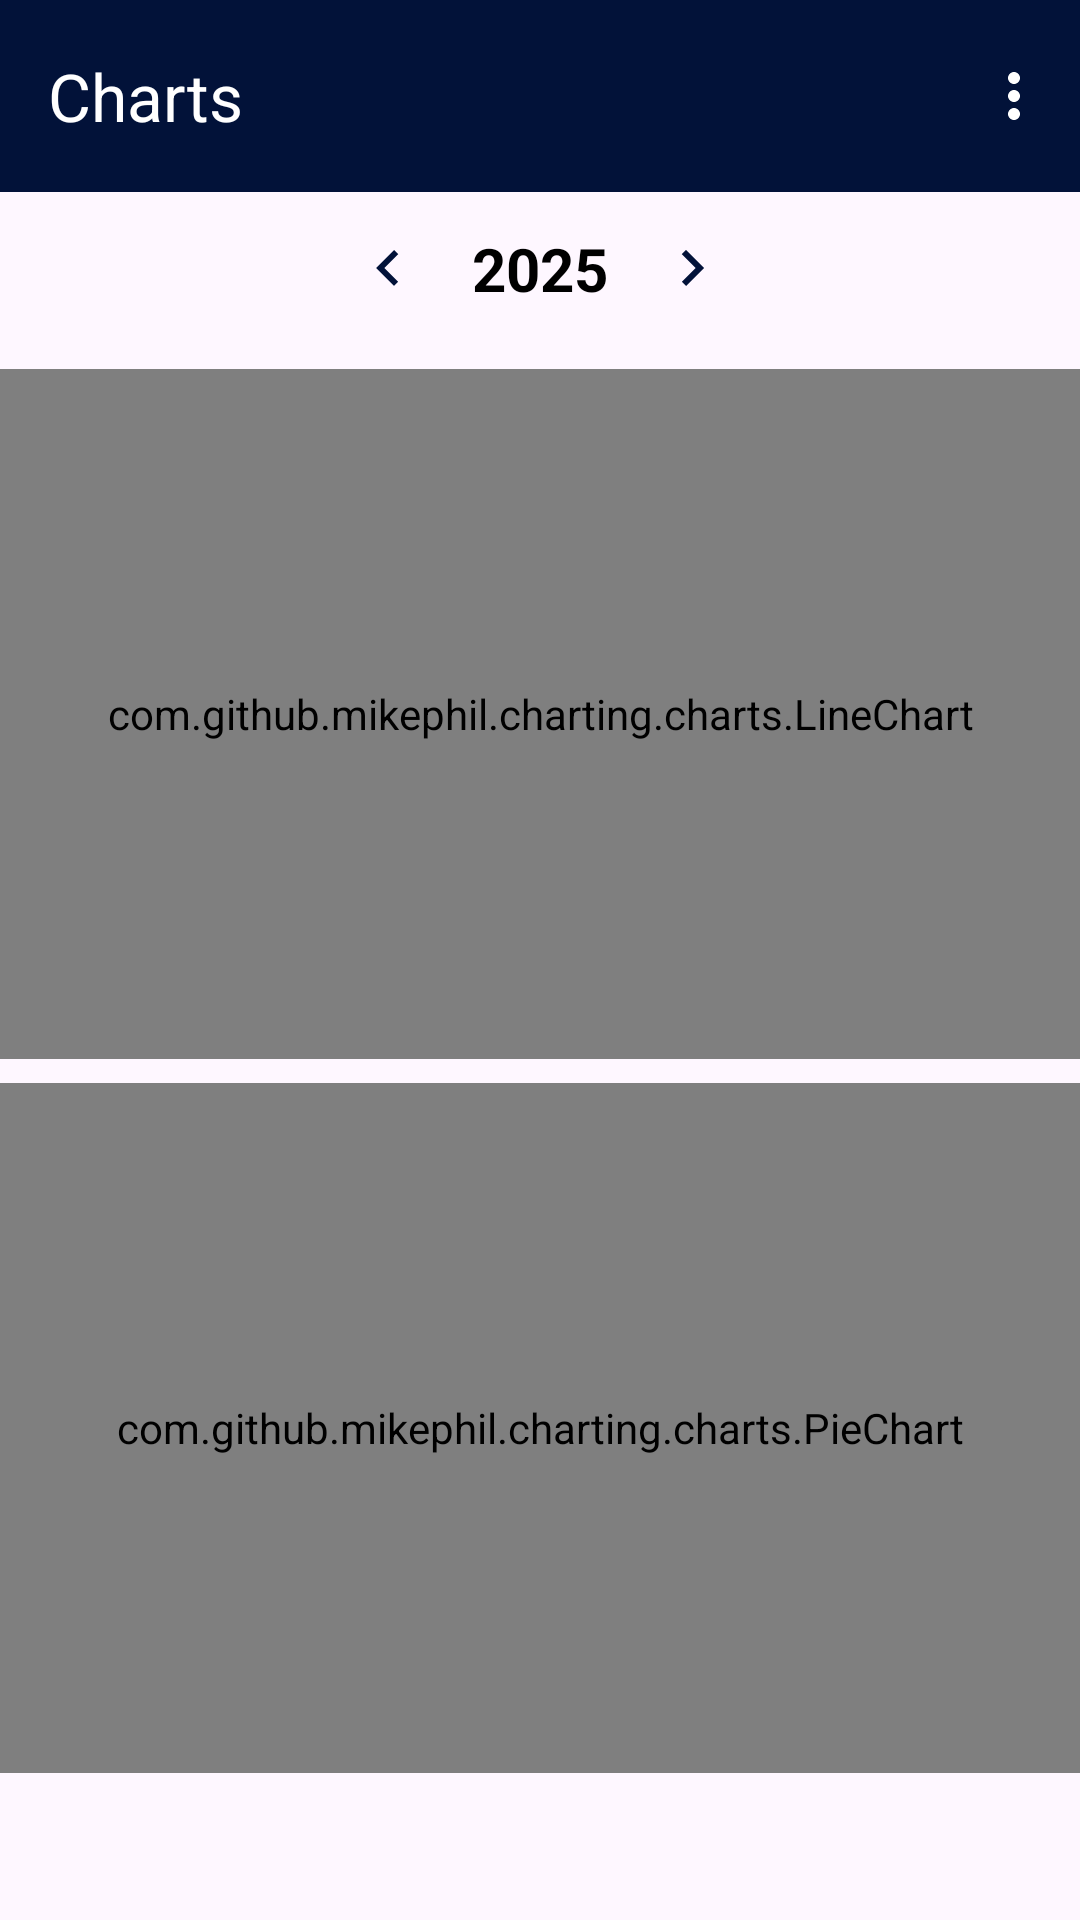

Icons on this 1080 × 1920 Android screen, each with the point to tap as [x,y]:
Next Year: [693,268]
Previous Year: [387,268]
